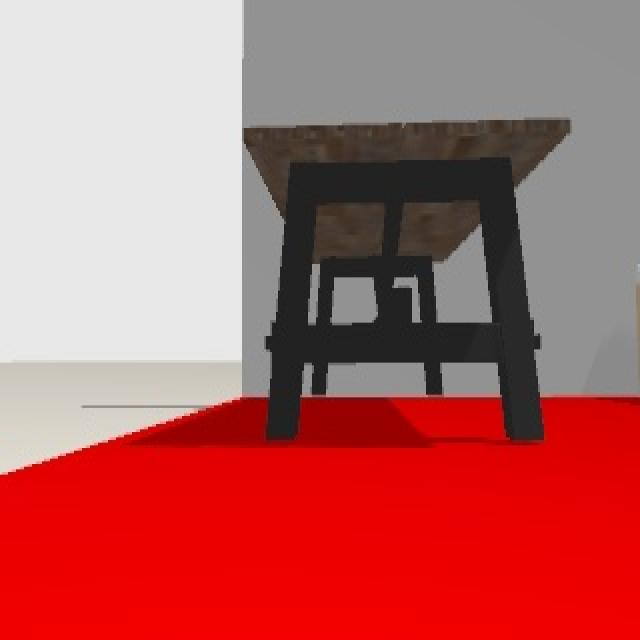dining: (246, 112, 573, 445)
